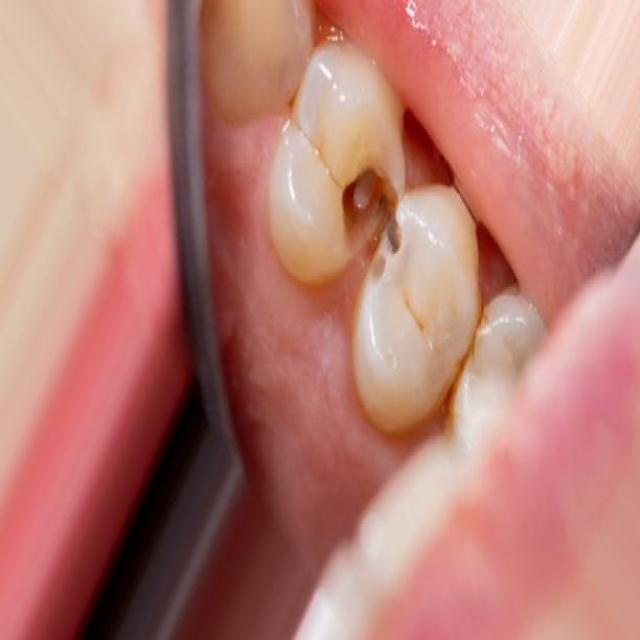caries: (314, 140, 424, 312)
